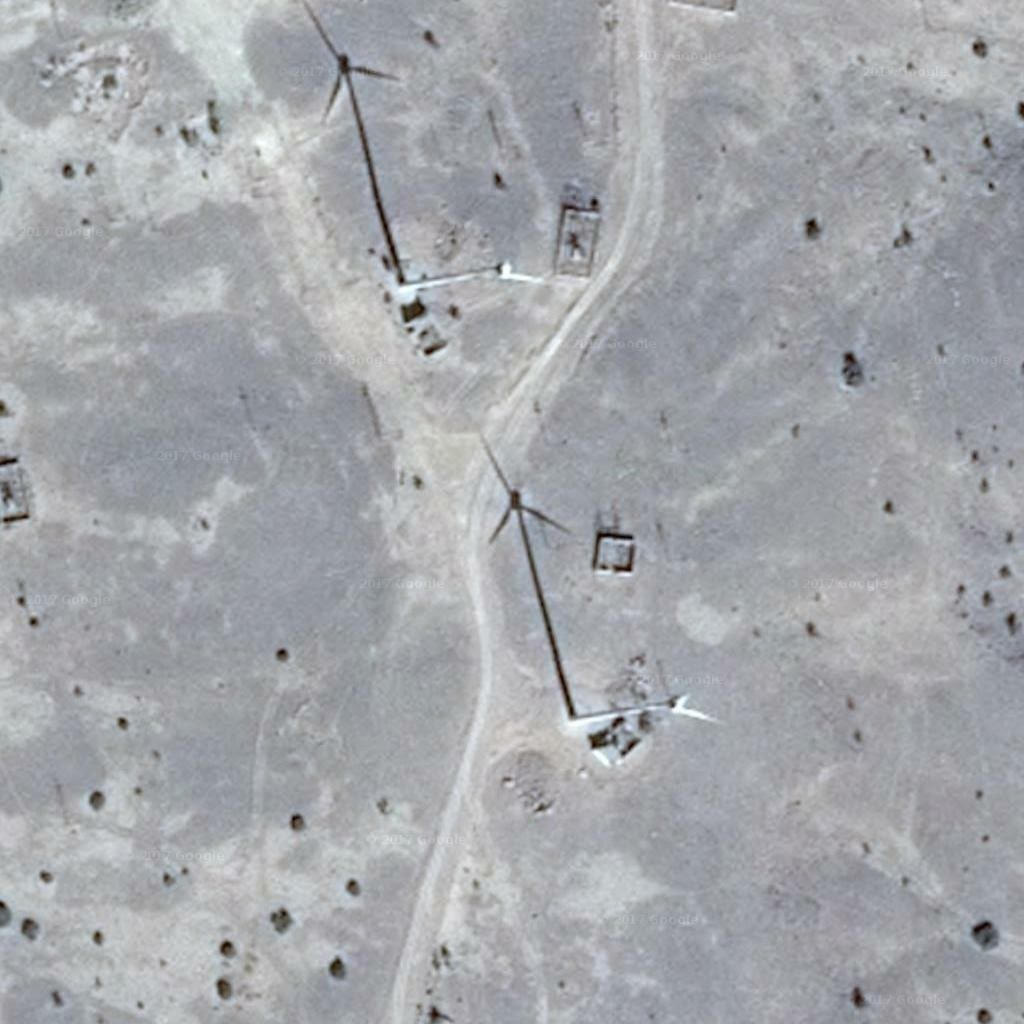Windmill: (297, 0, 416, 275)
